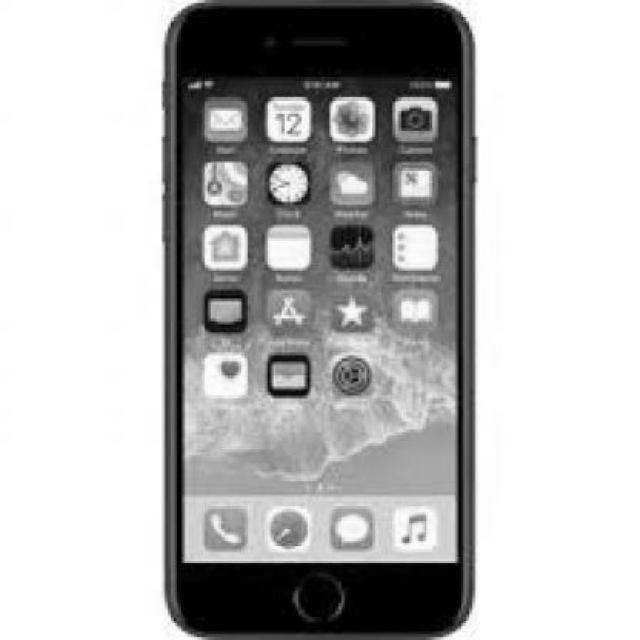fake: (163, 0, 483, 638)
